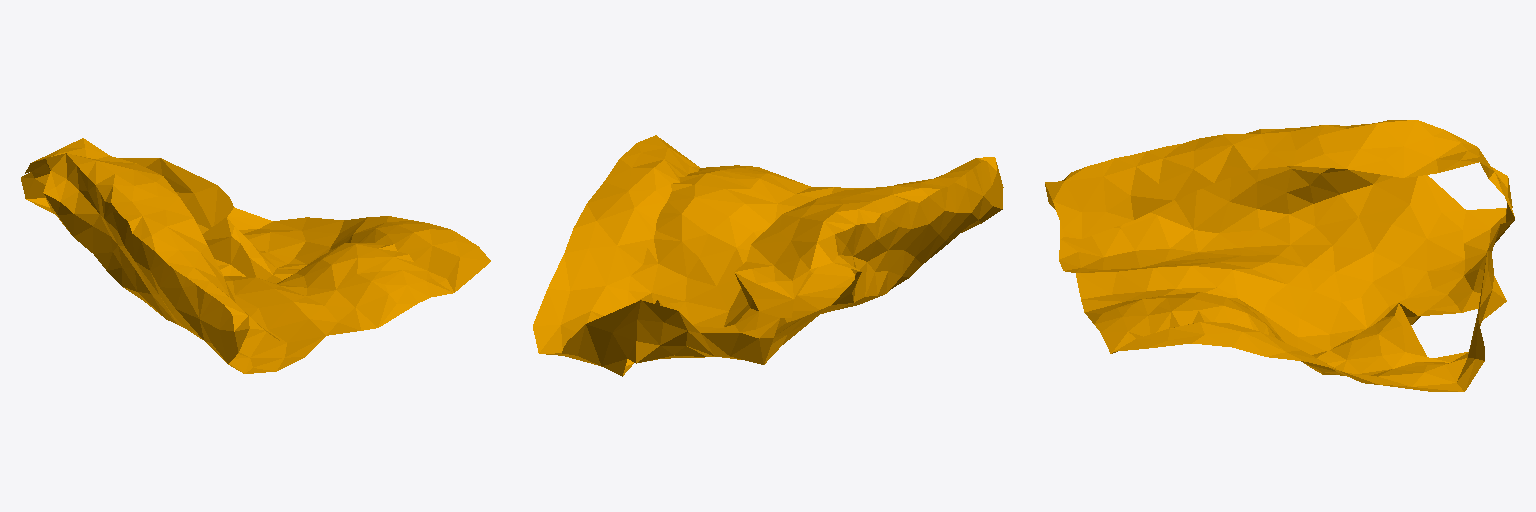
robot.urdf — init:
<?xml version='1.0' encoding='utf-8'?>
<robot name="init">
<link name="link_0"><inertial><mass value="1.0" /><origin rpy="0 0 0" xyz="0.000000 0.000000 0.000000" /><inertia ixx="1.0" ixy="0.0" ixz="0.0" iyy="1.0" iyz="0.0" izz="1.0" /></inertial><visual><origin rpy="0 0 0" xyz="0.000000 0.000000 0.000000" /><geometry><mesh filename="./clothHuman/cloth/1078.obj" /></geometry></visual><collision><origin rpy="0 0 0" xyz="0.000000 0.000000 0.000000" /><geometry><mesh filename="./clothHuman/cloth/1078.obj" /></geometry></collision></link></robot>

--- Render facts (derived) ---
The picture shows the robot from 3 angles, left to right: view 1: azimuth 30°, elevation 25°; view 2: azimuth 150°, elevation 25°; view 3: azimuth 270°, elevation 25°; orthographic projection.
Model init with 1 links and 0 joints (none), rooted at link_0, posed every joint at zero.
Visible links, largest first — view 1: link_0; view 2: link_0; view 3: link_0.
Link boxes in pixels (x1=…): link_0: x1=21, y1=138, x2=490, y2=373; link_0: x1=533, y1=135, x2=1003, y2=376; link_0: x1=1045, y1=120, x2=1514, y2=391.
Bounding box of the posed robot: 3.18 × 3.76 × 1.4 m (x, y, z).
1 mesh visuals loaded from 1 distinct referenced files (1 OBJ).